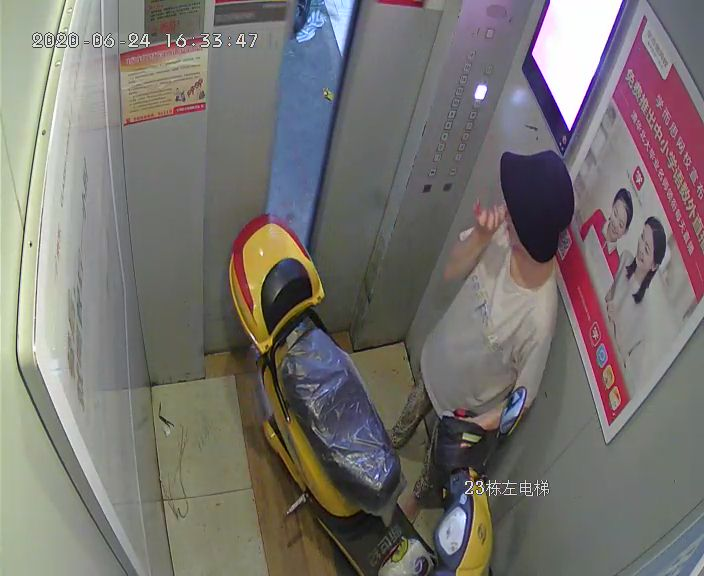Electric-bicycle: (235, 222, 491, 573)
